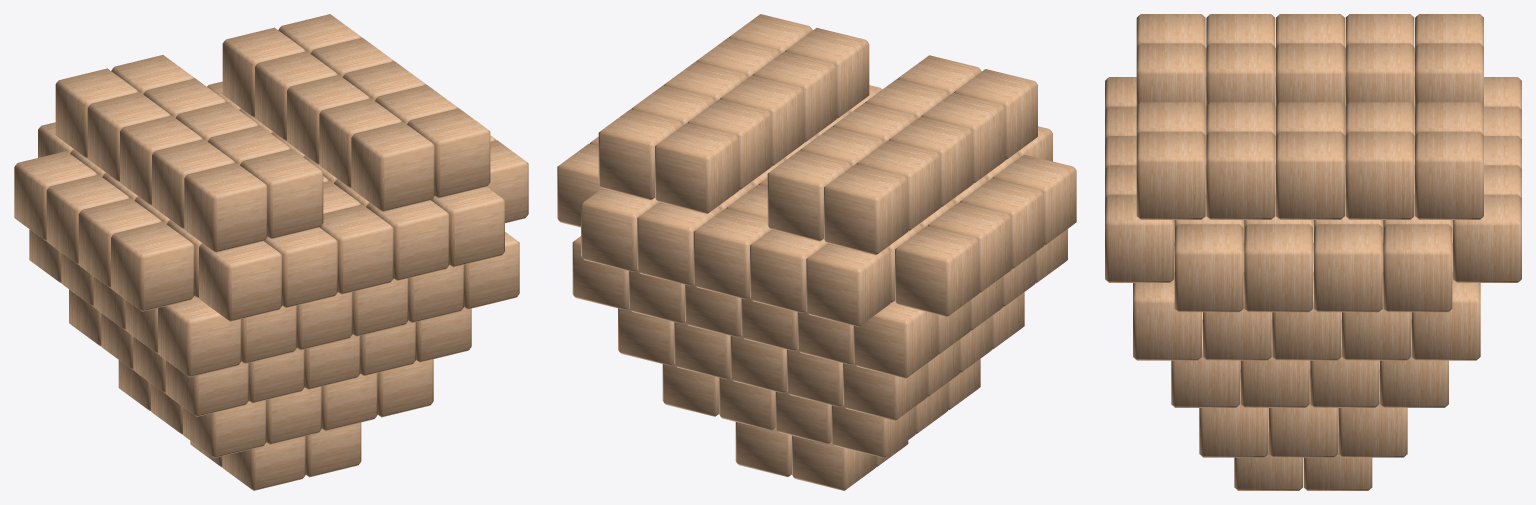
The model's file is level_113.fbx.
The picture shows the model from 3 angles, left to right: view 1: azimuth 30°, elevation 25°; view 2: azimuth 150°, elevation 25°; view 3: azimuth 270°, elevation 25°; orthographic projection. The views are drawn at different scales.
Visible parts, largest first — view 1: Cube.117, Cube.050, Cube.116, Cube.105, Cube.115, Cube.119, Cube.118, Cube.103, Cube.104, Cube.106, Cube.107, Cube.065 (+46 smaller); view 2: Cube.125, Cube.078, Cube.126, Cube.120, Cube.085, Cube.127, Cube.128, Cube.101, Cube.102, Cube.121, Cube.122, Cube.066 (+46 smaller); view 3: Cube.049, Cube.077, Cube.098, Cube.119, Cube.094, Cube.005, Cube.027, Cube.073, Cube.128, Cube.122, Cube.107, Cube.114 (+36 smaller).
Part boxes in pixels (x1=…): Cube.117: x1=184, y1=162, x2=267, y2=252; Cube.050: x1=111, y1=221, x2=194, y2=311; Cube.116: x1=351, y1=122, x2=434, y2=211; Cube.105: x1=199, y1=241, x2=281, y2=321; Cube.115: x1=158, y1=296, x2=241, y2=377; Cube.119: x1=407, y1=108, x2=490, y2=198; Cube.118: x1=240, y1=149, x2=323, y2=238; Cube.103: x1=319, y1=204, x2=393, y2=294; Cube.104: x1=366, y1=200, x2=449, y2=280; Cube.106: x1=264, y1=227, x2=337, y2=307; Cube.107: x1=431, y1=186, x2=504, y2=267; Cube.065: x1=183, y1=400, x2=266, y2=458; Cube.125: x1=655, y1=123, x2=739, y2=213; Cube.078: x1=895, y1=226, x2=979, y2=316; Cube.126: x1=824, y1=164, x2=907, y2=254; Cube.120: x1=806, y1=243, x2=890, y2=326; Cube.085: x1=853, y1=301, x2=937, y2=378; Cube.127: x1=767, y1=150, x2=851, y2=241; Cube.128: x1=598, y1=109, x2=682, y2=199; Cube.101: x1=693, y1=208, x2=770, y2=299; Cube.102: x1=637, y1=202, x2=721, y2=285; Cube.121: x1=750, y1=229, x2=827, y2=313; Cube.122: x1=581, y1=188, x2=658, y2=271; Cube.066: x1=720, y1=75, x2=804, y2=166; Cube.049: x1=1174, y1=224, x2=1243, y2=312; Cube.077: x1=1383, y1=224, x2=1452, y2=312; Cube.098: x1=1206, y1=131, x2=1275, y2=219; Cube.119: x1=1136, y1=131, x2=1205, y2=219; Cube.094: x1=1345, y1=131, x2=1414, y2=219; Cube.005: x1=1244, y1=224, x2=1312, y2=312; Cube.027: x1=1314, y1=224, x2=1382, y2=312; Cube.073: x1=1276, y1=131, x2=1344, y2=219; Cube.128: x1=1415, y1=131, x2=1483, y2=219; Cube.122: x1=1453, y1=194, x2=1521, y2=282; Cube.107: x1=1105, y1=194, x2=1173, y2=282; Cube.114: x1=1133, y1=272, x2=1201, y2=360.
Size of the model in its own units: 14.12 by 12.1 by 12.1.
